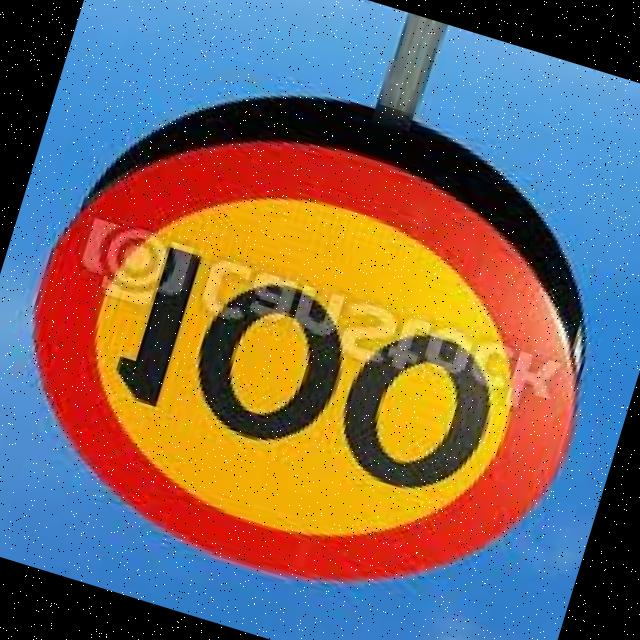speed_limit_100: (0, 66, 640, 640)
